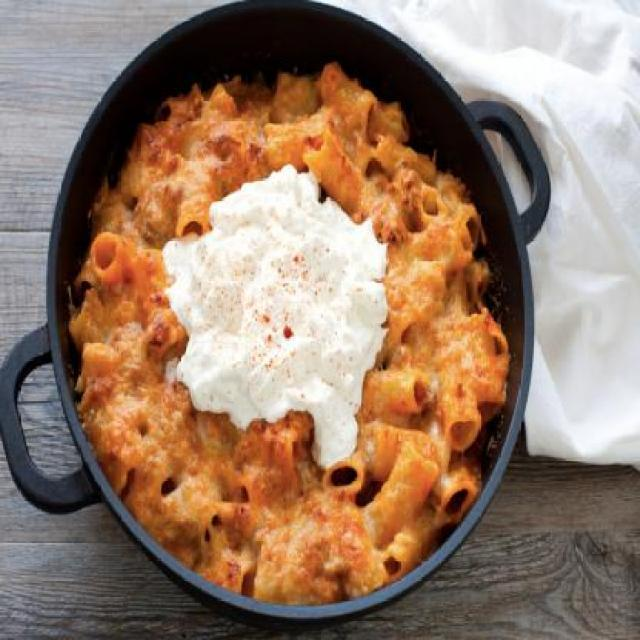Pasta al ragu: (64, 30, 512, 584)
